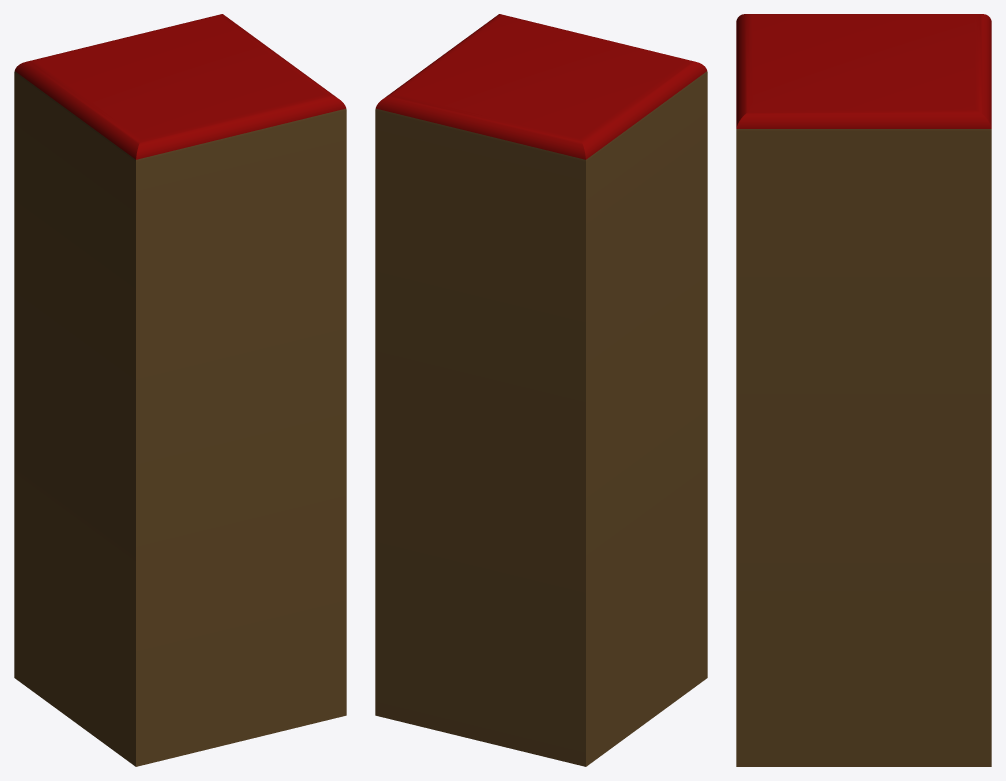
Rendered from Column.fbx.
The picture shows the model from 3 angles, left to right: view 1: azimuth 30°, elevation 25°; view 2: azimuth 150°, elevation 25°; view 3: azimuth 270°, elevation 25°; orthographic projection. The views are drawn at different scales.
Parts seen in each view (by area): view 1: Cube; view 2: Cube; view 3: Cube.
Boxes of the visible parts, <box> form: Cube: <box>14,14,346,766</box>; Cube: <box>375,14,707,766</box>; Cube: <box>736,14,991,766</box>.
Size of the model in its own units: 200 by 561 by 200.
